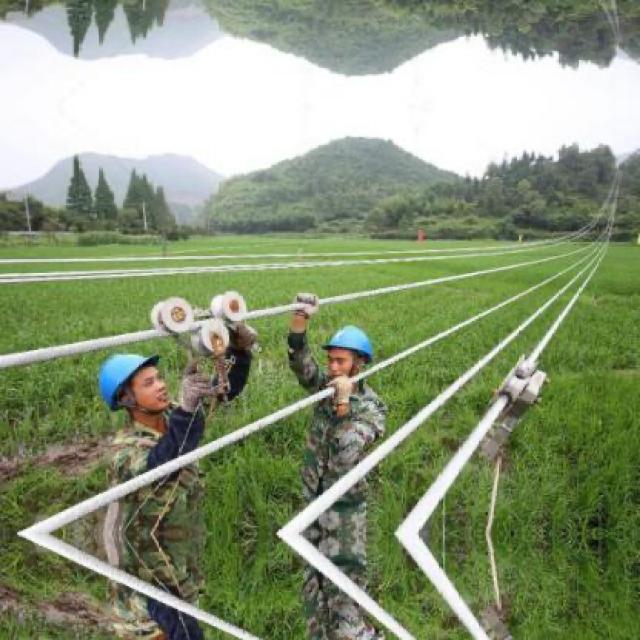2: (94, 336, 228, 531), (280, 318, 392, 530), (94, 536, 229, 638), (280, 536, 394, 638)
helmet: (89, 349, 174, 421), (325, 322, 377, 382)
